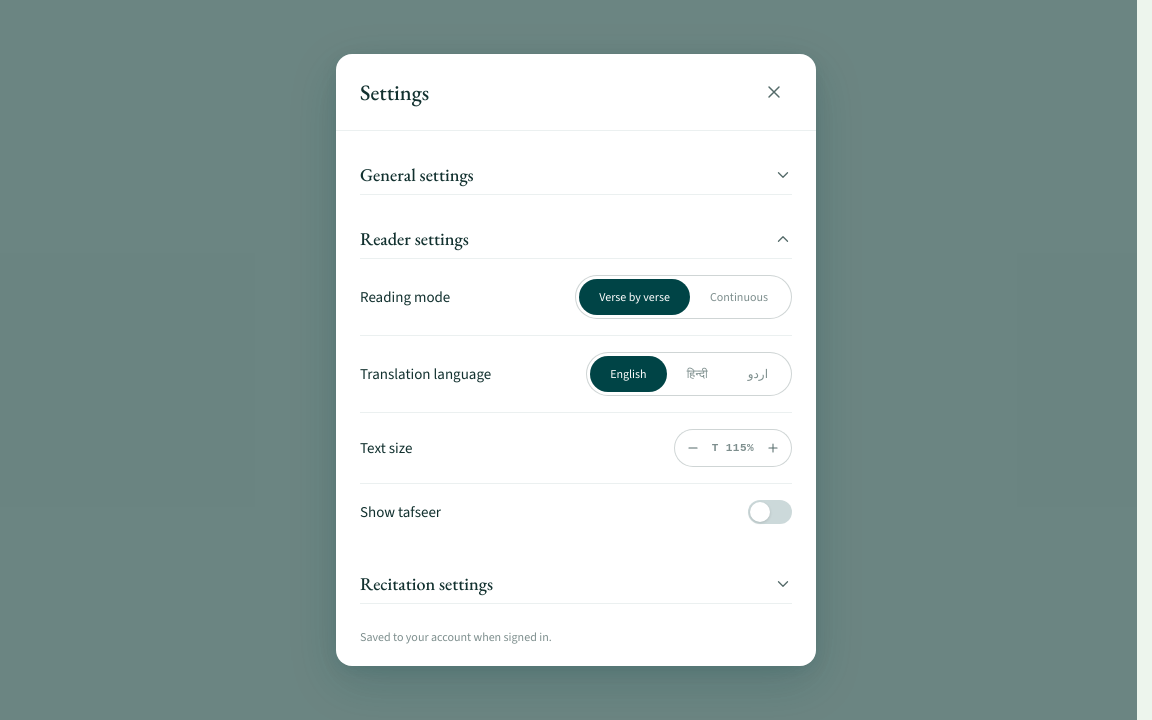
it: SettingsSheet sections › keeps only one section expanded at a time
This screenshot has width=1152, height=720.
Click the button "General settings": click(417, 174) [360,155,792,194]
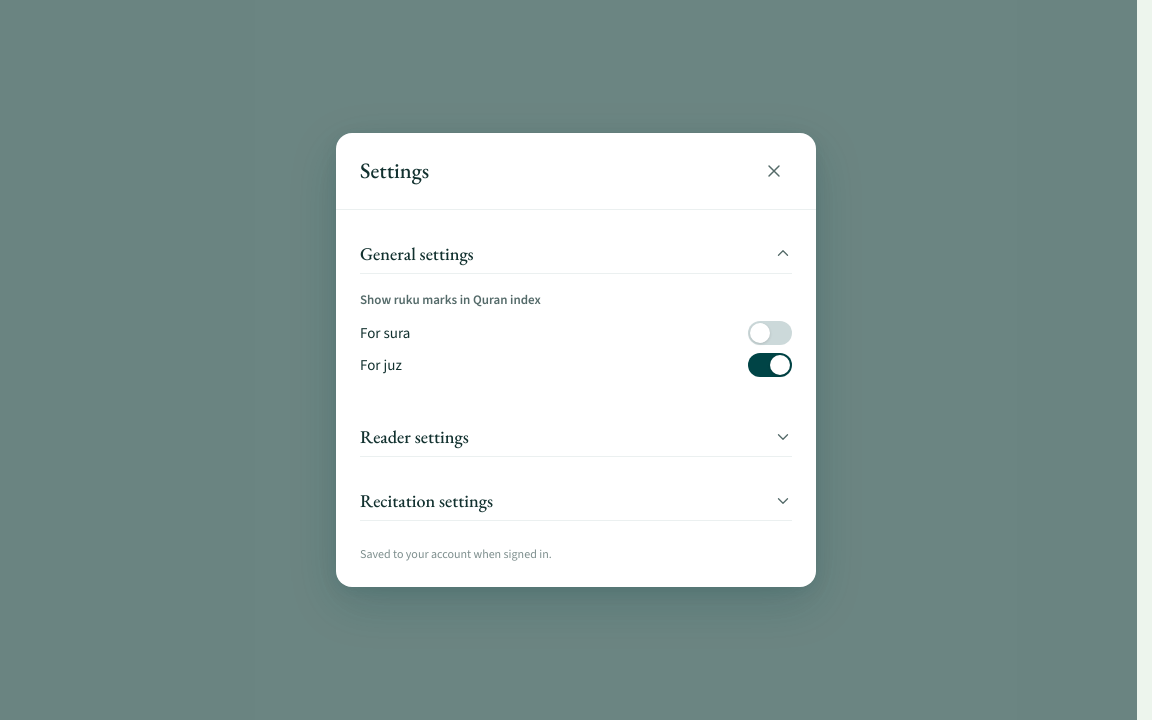
Expected: the button "General settings" is expanded, [360,234,792,273]
Expected: the button "Reader settings" is collapsed
Click the button "Reader settings": click(414, 437) [360,417,792,456]
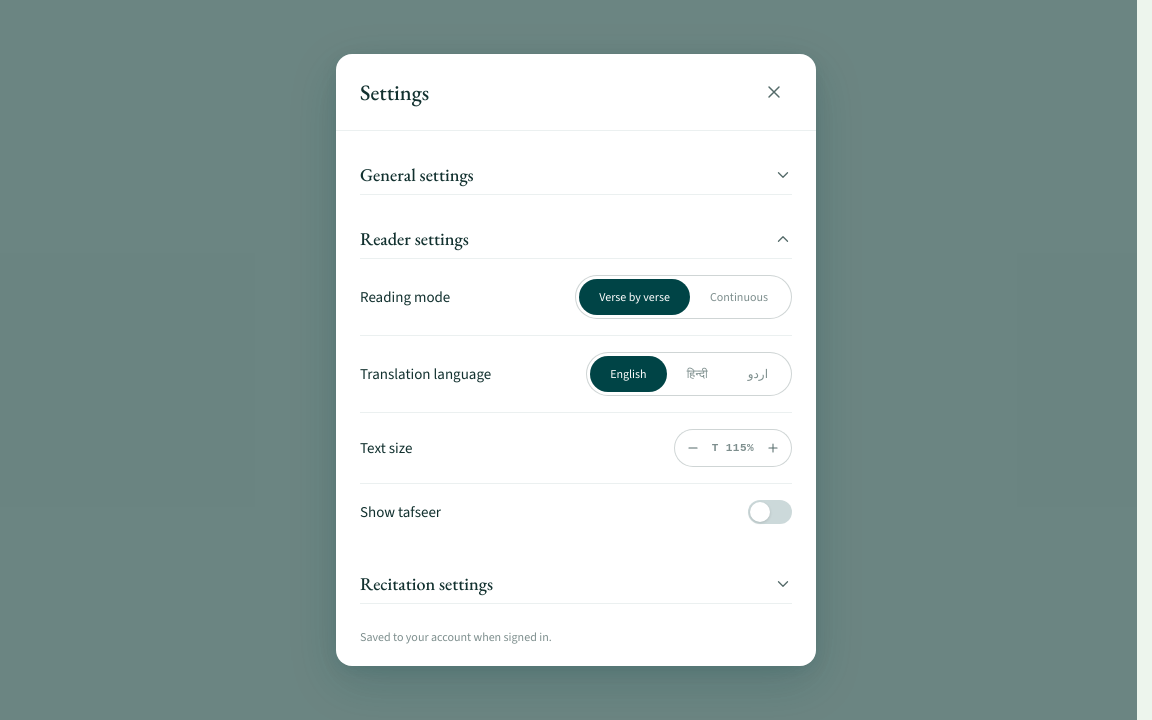
Expected: the button "Reader settings" is expanded, [360,219,792,258]
Expected: the button "General settings" is collapsed, [360,155,792,194]
